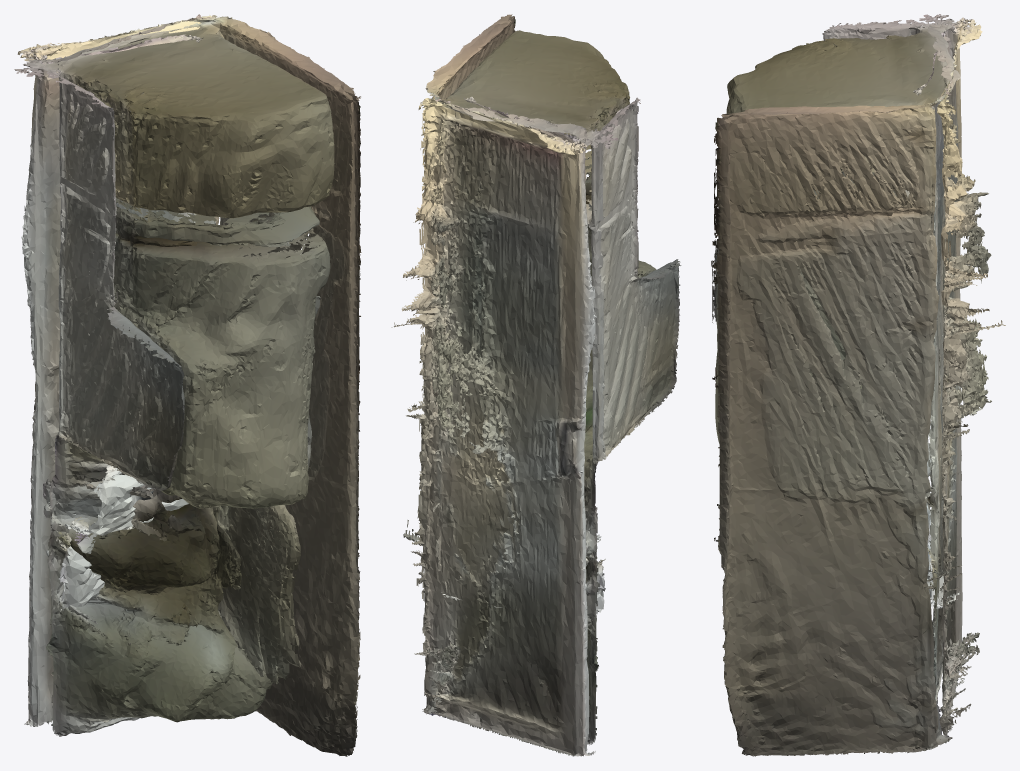
The model's file is cab1r2p.glb.
3 renders of one model, left to right at view 1: azimuth 30°, elevation 25°; view 2: azimuth 150°, elevation 25°; view 3: azimuth 270°, elevation 25°, orthographic. The views are drawn at different scales.
Visible parts, largest first — view 1: cabinet_1r2p_transparent_start_0, cabinet_1r2p_transparent_start_3, cabinet_1r2p_transparent_start_1, cabinet_1r2p_transparent_start_2; view 2: cabinet_1r2p_transparent_start_3, cabinet_1r2p_transparent_start_0, cabinet_1r2p_transparent_start_2; view 3: cabinet_1r2p_transparent_start_0, cabinet_1r2p_transparent_start_3, cabinet_1r2p_transparent_start_2.
Part boxes in pixels (bbox=[...]): cabinet_1r2p_transparent_start_0: bbox=[14, 14, 361, 756]; cabinet_1r2p_transparent_start_3: bbox=[17, 15, 219, 726]; cabinet_1r2p_transparent_start_1: bbox=[64, 465, 188, 535]; cabinet_1r2p_transparent_start_2: bbox=[56, 531, 104, 611]; cabinet_1r2p_transparent_start_3: bbox=[391, 96, 596, 756]; cabinet_1r2p_transparent_start_0: bbox=[422, 14, 681, 745]; cabinet_1r2p_transparent_start_2: bbox=[403, 520, 605, 626]; cabinet_1r2p_transparent_start_0: bbox=[711, 14, 960, 756]; cabinet_1r2p_transparent_start_3: bbox=[913, 17, 1005, 736]; cabinet_1r2p_transparent_start_2: bbox=[924, 503, 960, 608].
Size of the model in its own units: 0.7281 by 1.98 by 0.8169.
